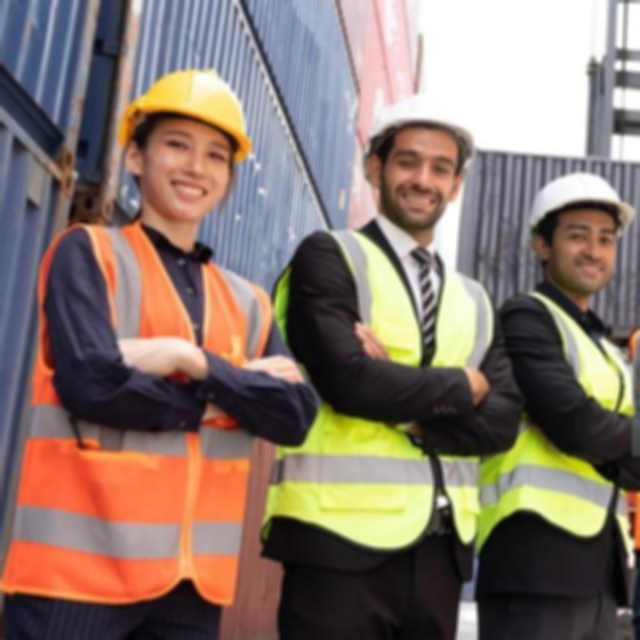Con_Casco: (121, 64, 250, 224), (361, 94, 478, 234), (528, 172, 640, 290)
Con_Chaleco: (29, 228, 275, 598), (282, 228, 500, 542), (481, 293, 640, 567)
